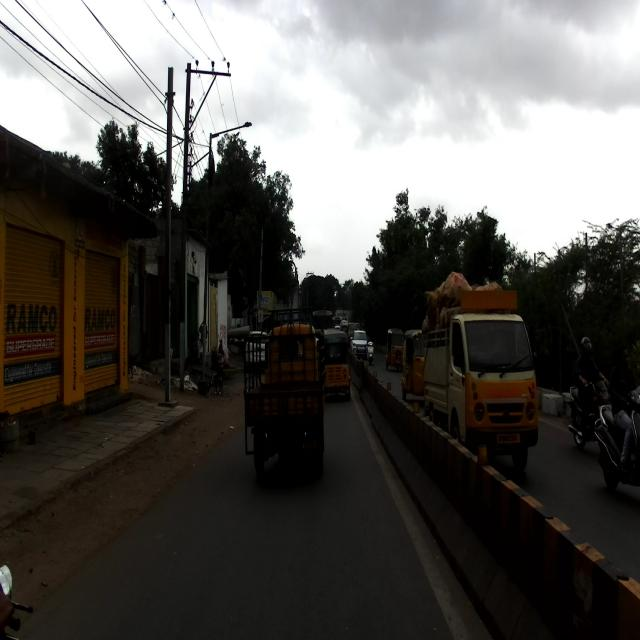autorickshaw: (241, 306, 326, 486)
motorcycle: (567, 375, 614, 450), (0, 562, 33, 638)
scooter: (592, 385, 640, 493)
truck: (422, 270, 539, 473)
